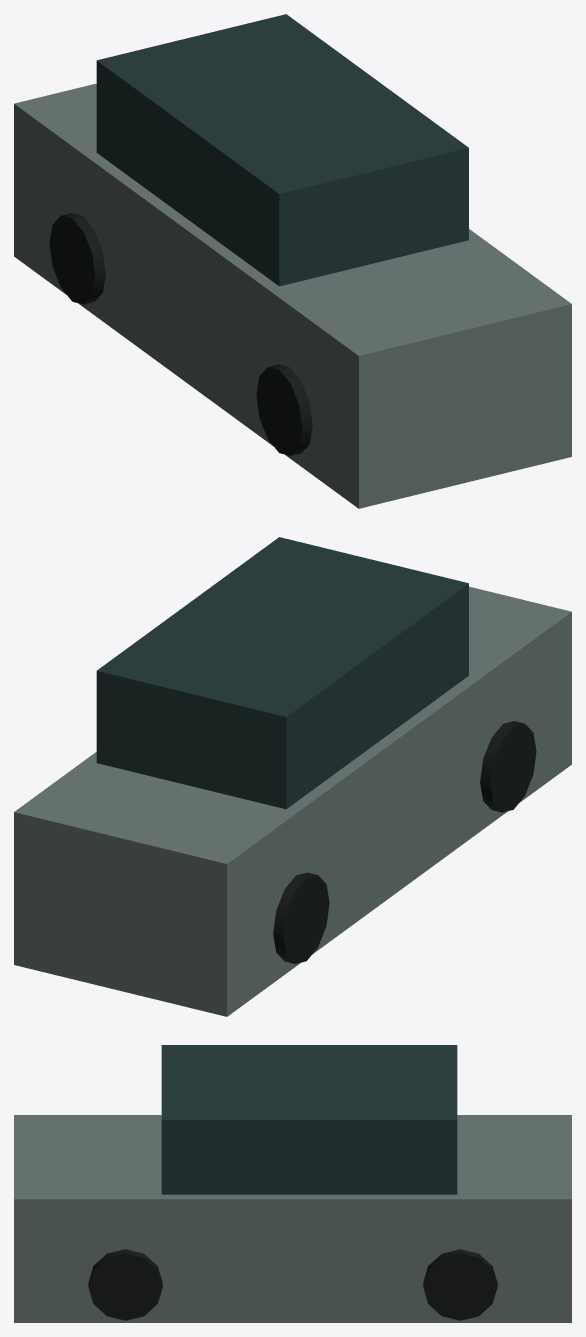
File: car-van.glb
3 views of the same model, one above another, from view 1: azimuth 30°, elevation 25°; view 2: azimuth 150°, elevation 25°; view 3: azimuth 270°, elevation 25° (orthographic). The views are drawn at different scales.
Parts seen in each view (by area): view 1: car-van; view 2: car-van; view 3: car-van.
Boxes of the visible parts, x1,y1,x2,y2 form: car-van: (14,14,571,508); car-van: (14,537,571,1016); car-van: (14,1045,571,1322).
Size of the model in its own units: 2 by 2 by 5.1.
